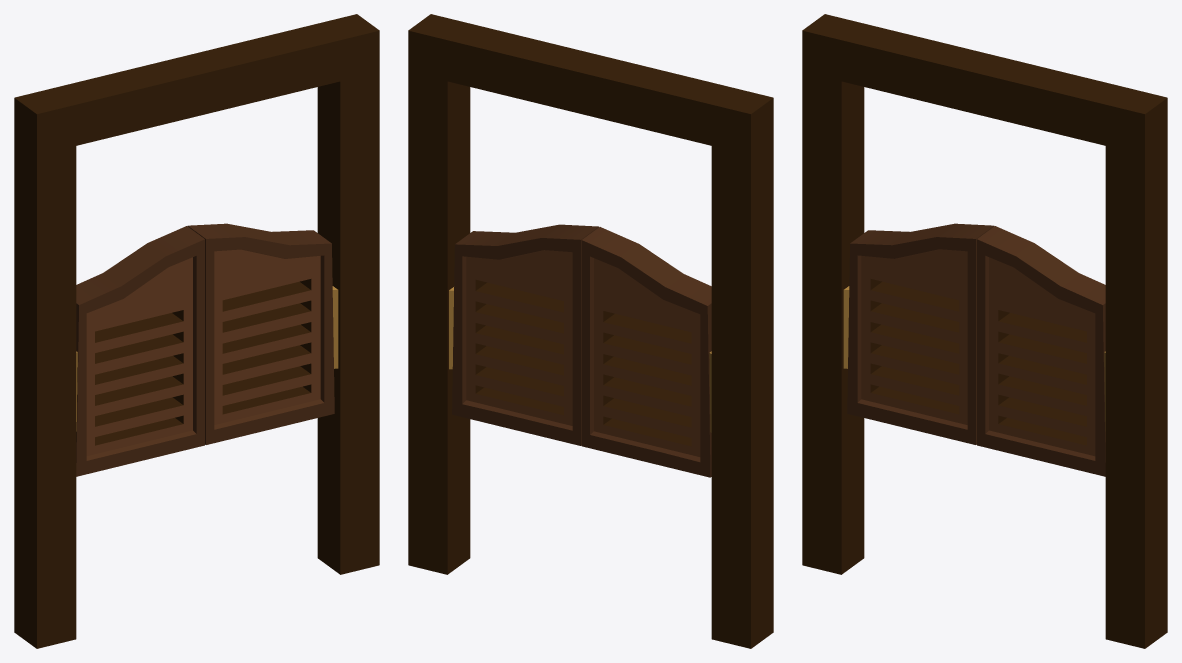
Rendered from Out_Door.fbx.
3 views of the same model, side by side, from view 1: azimuth 30°, elevation 25°; view 2: azimuth 150°, elevation 25°; view 3: azimuth 330°, elevation 25° (orthographic).
Visible parts, largest first — view 1: Out_Door; view 2: Out_Door; view 3: Out_Door.
Boxes of the visible parts, x1,y1,x2,y2 form: Out_Door: (14,14,379,648); Out_Door: (408,14,773,648); Out_Door: (802,14,1167,648).
Bounding box in the file's own units: 157 × 234 × 18.
